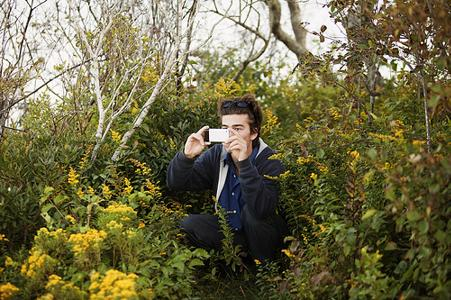person: (165, 94, 283, 274)
